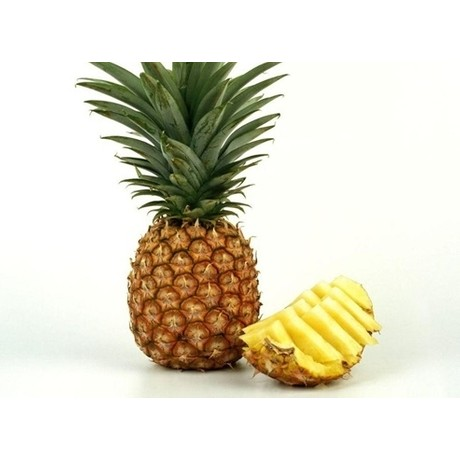pineapple: (113, 216, 268, 371)
